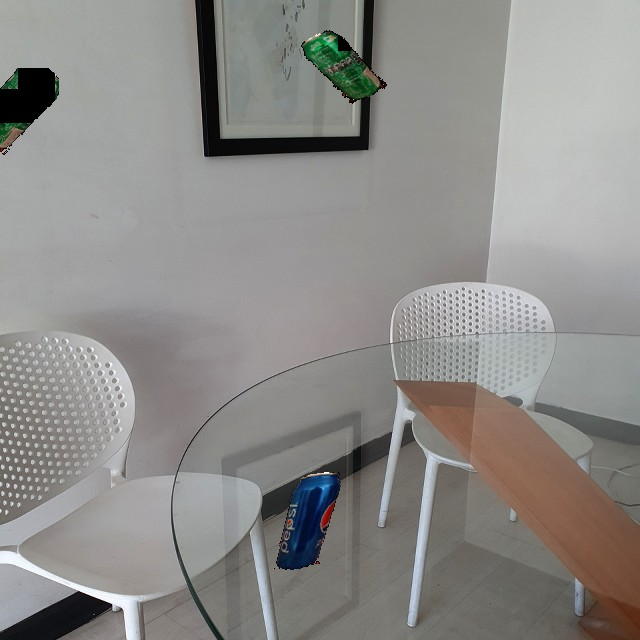pepsi: (273, 471, 344, 572)
sprite: (296, 16, 388, 116), (0, 68, 59, 157)
